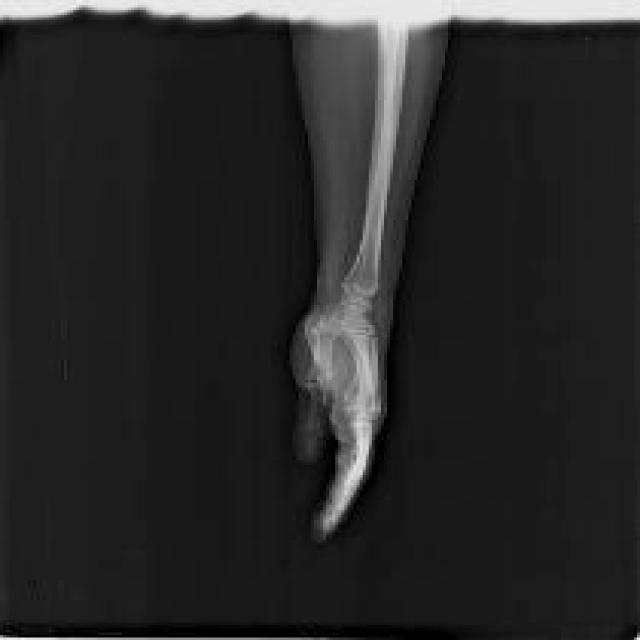normal: (305, 18, 408, 534)
